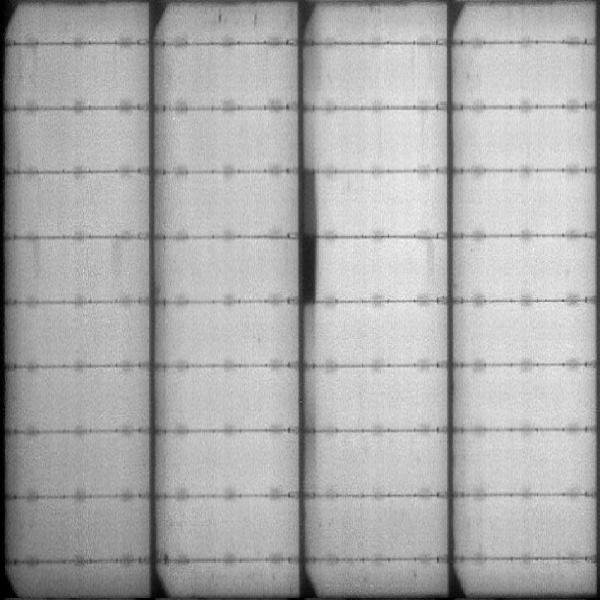black_border: (298, 163, 321, 311)
